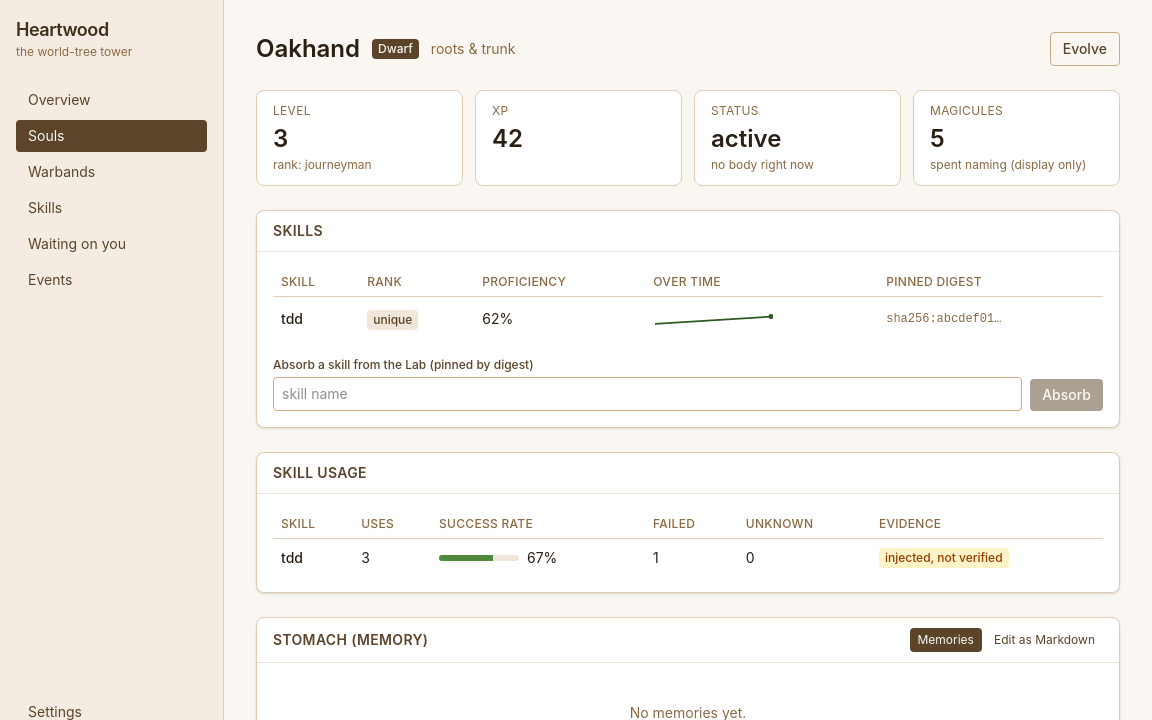
Test case: pages › soul page shows skills with rank and proficiency, unverified usage, and surfaces a refused evolution
Expected: the heading "Oakhand" is shown, [256,33,360,65]
Expected: the text "unique" is shown, [367,310,418,330]
Click the button "Evolve". click: coordinates (1085, 49)
box: [1050,32,1120,66]
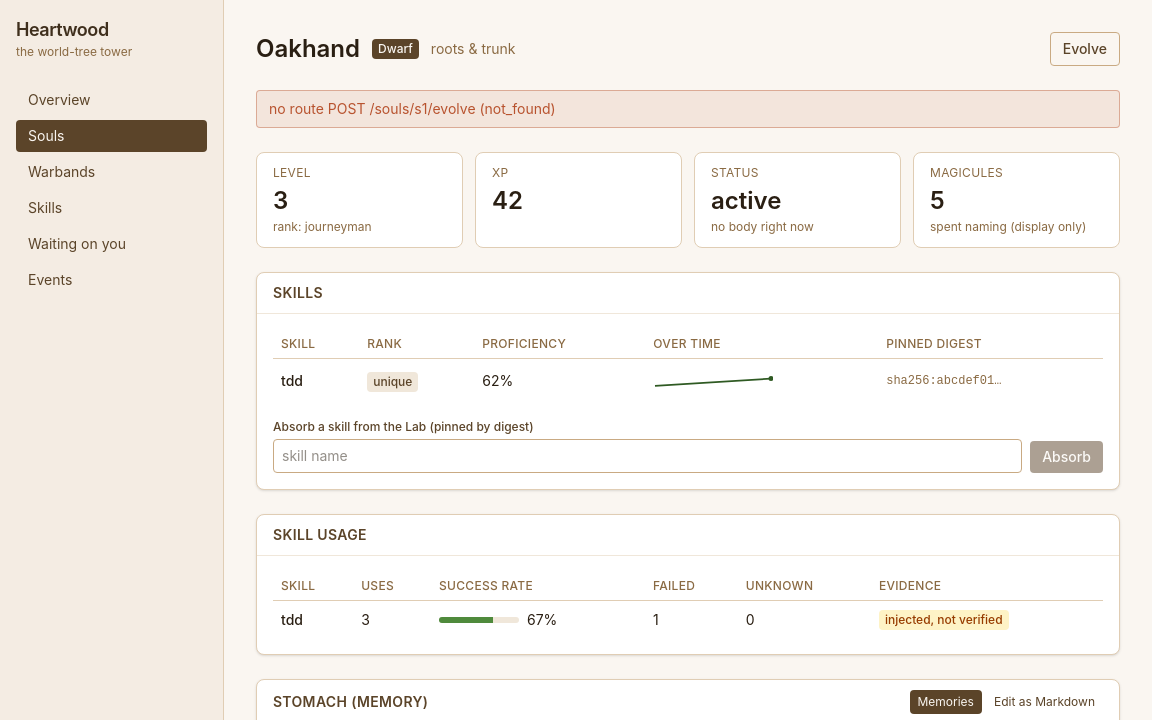
Expected: the message "no route POST /souls/s1/evolve (not_found)" is shown, [256,90,1120,128]
